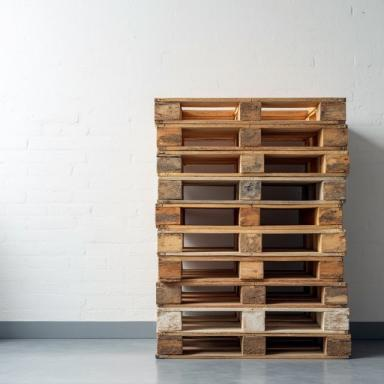pallet: (157, 176, 346, 204), (156, 150, 349, 177), (156, 124, 348, 151), (157, 229, 346, 256), (155, 333, 351, 359), (155, 203, 343, 230), (156, 308, 349, 334), (154, 98, 346, 124), (156, 282, 348, 308), (158, 256, 344, 282), (266, 336, 323, 358), (181, 285, 235, 307), (180, 209, 234, 226), (183, 233, 234, 250), (180, 107, 235, 120), (263, 234, 303, 250), (183, 336, 241, 347), (260, 209, 299, 225), (264, 261, 303, 276), (261, 113, 316, 121), (182, 261, 234, 269), (261, 107, 312, 115), (182, 141, 234, 146), (261, 141, 305, 146), (182, 311, 235, 315)
